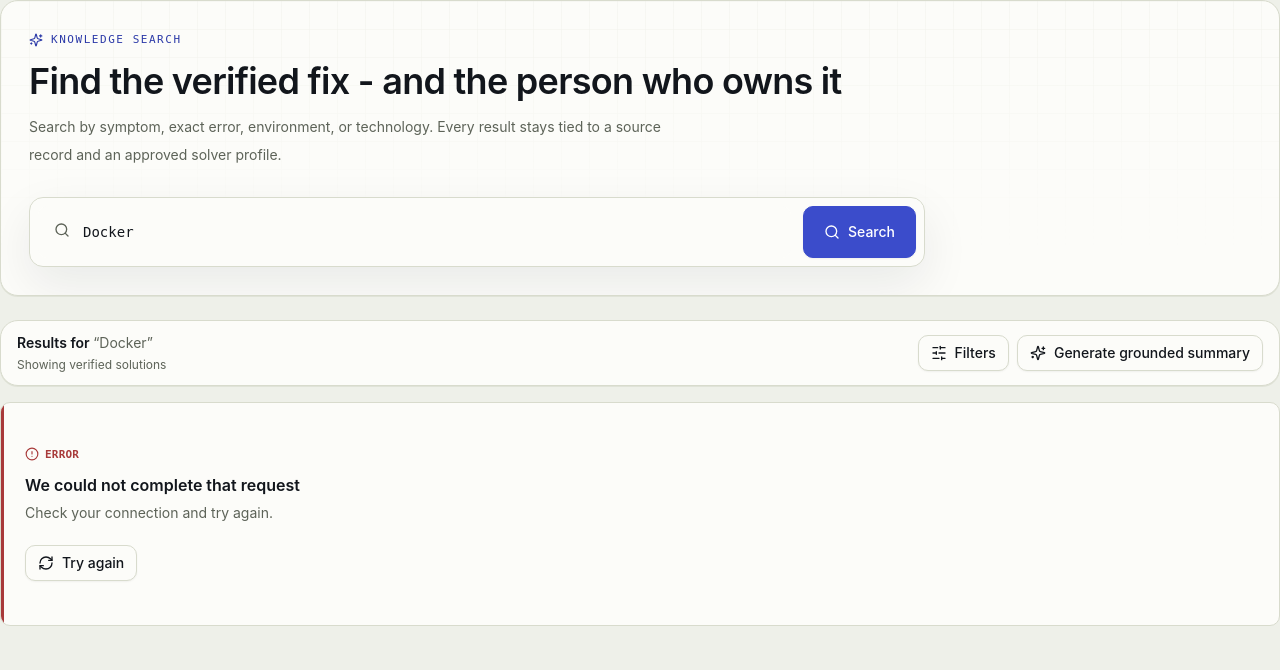
Test: SearchPage › shows an error and retries
Click the button "Try again".
click(81, 563)  # box top-left (25, 545), bottom-right (137, 581)
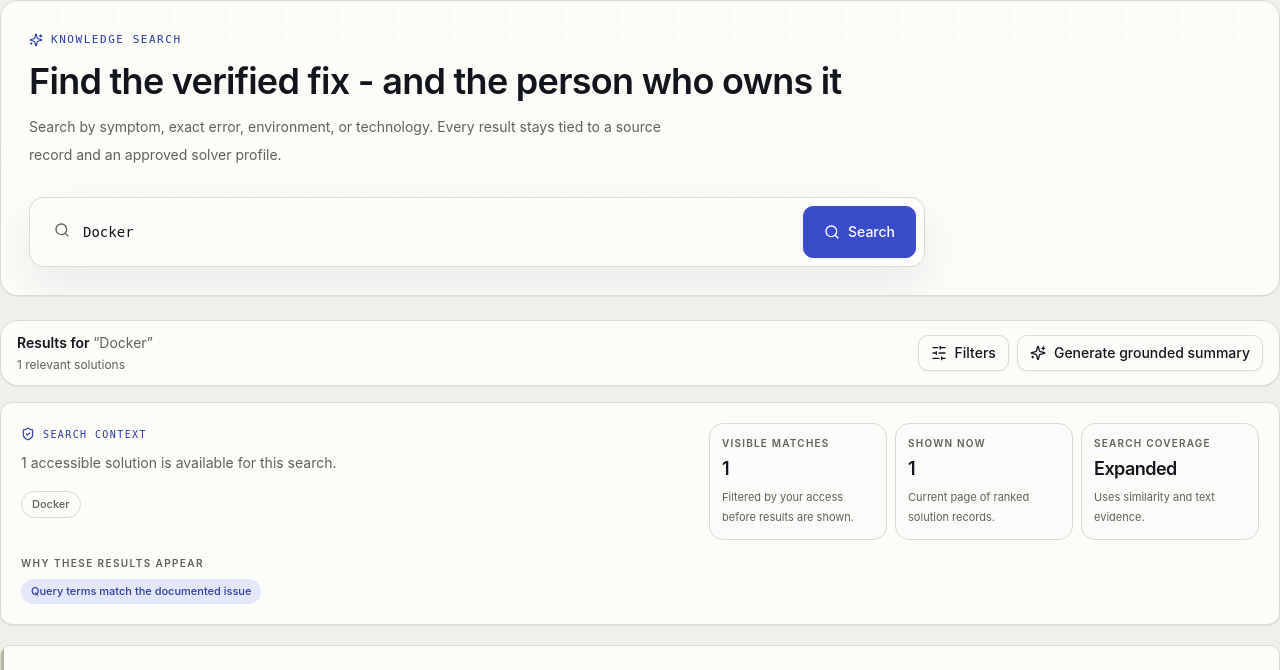
Result: the text "Docker" is shown at top-left (21, 491), bottom-right (81, 518)
